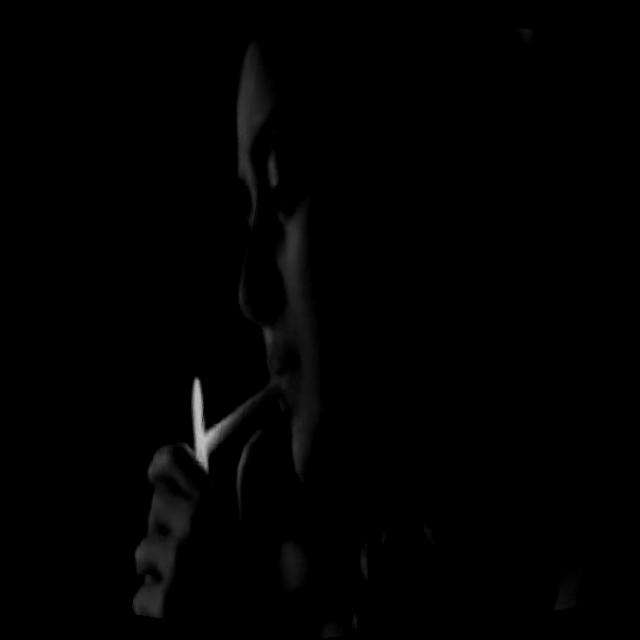cigarette: (175, 358, 308, 488)
